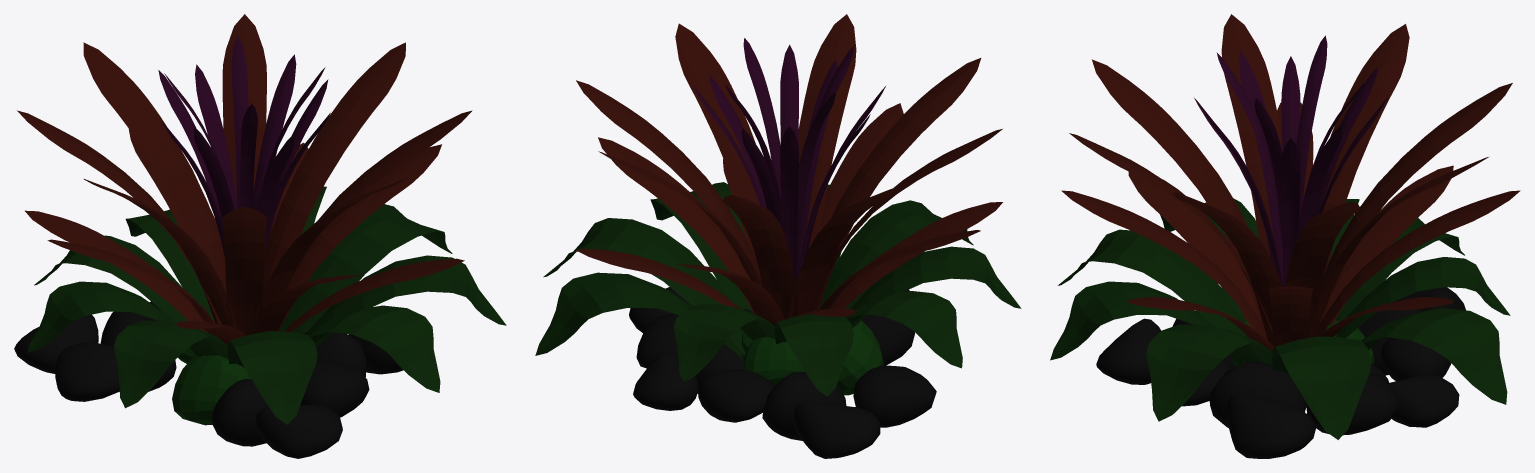
File: Coso.obj
The picture shows the model from 3 angles, left to right: view 1: azimuth 30°, elevation 25°; view 2: azimuth 150°, elevation 25°; view 3: azimuth 270°, elevation 25°; orthographic projection. The views are drawn at different scales.
Visible parts, largest first — view 1: Plane.006_Plane.007, Plane.005_Plane.006, Cube_Cube.002, Plane.007_Plane.003, Leaf_Plane.009, Plane_Plane.008, Plane.004_Plane.005, Plane.008_Plane.000, Plane.003_Plane.004; view 2: Plane.006_Plane.007, Cube_Cube.002, Plane.005_Plane.006, Plane.007_Plane.003, Leaf_Plane.009, Plane_Plane.008, Plane.004_Plane.005, Plane.008_Plane.000, Plane.003_Plane.004; view 3: Plane.006_Plane.007, Cube_Cube.002, Plane.007_Plane.003, Plane.005_Plane.006, Leaf_Plane.009, Plane_Plane.008, Plane.004_Plane.005, Plane.003_Plane.004, Plane.008_Plane.000.
Boxes of the visible parts, box(x1,y1,x2,y2) form: Plane.006_Plane.007: box(27, 186, 506, 424); Plane.005_Plane.006: box(83, 42, 405, 329); Cube_Cube.002: box(14, 301, 403, 458); Plane.007_Plane.003: box(17, 14, 472, 335); Leaf_Plane.009: box(25, 142, 464, 425); Plane_Plane.008: box(47, 129, 441, 334); Plane.004_Plane.005: box(158, 54, 330, 256); Plane.008_Plane.000: box(161, 64, 328, 257); Plane.003_Plane.004: box(164, 35, 325, 208); Plane.006_Plane.007: box(535, 182, 1021, 396); Cube_Cube.002: box(629, 287, 936, 458); Plane.005_Plane.006: box(576, 14, 1002, 319); Plane.007_Plane.003: box(598, 23, 981, 318); Leaf_Plane.009: box(576, 158, 1002, 395); Plane_Plane.008: box(598, 103, 980, 326); Plane.004_Plane.005: box(693, 44, 885, 283); Plane.008_Plane.000: box(708, 60, 870, 278); Plane.003_Plane.004: box(725, 38, 854, 241); Plane.006_Plane.007: box(1050, 198, 1510, 439); Cube_Cube.002: box(1096, 287, 1465, 458); Plane.007_Plane.003: box(1092, 24, 1489, 346); Plane.005_Plane.006: box(1069, 14, 1512, 337); Leaf_Plane.009: box(1128, 165, 1453, 366); Plane_Plane.008: box(1061, 102, 1520, 347); Plane.004_Plane.005: box(1204, 51, 1377, 286); Plane.003_Plane.004: box(1216, 35, 1364, 252); Plane.008_Plane.000: box(1194, 56, 1387, 286).
Bounding box in the file's own units: 3.8 × 2.89 × 3.59.
